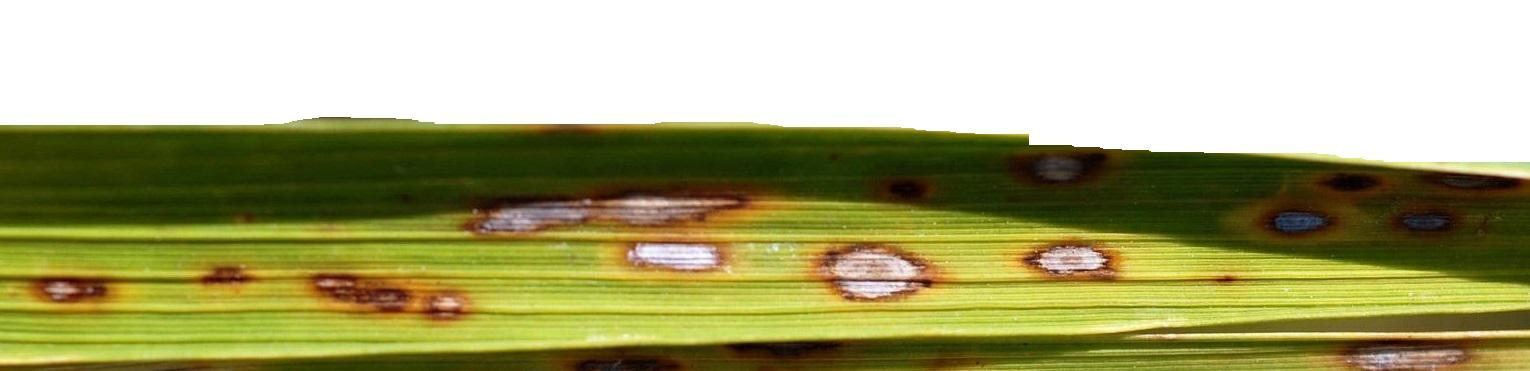0 BrownSpot: (453, 186, 753, 272), (300, 255, 489, 329), (821, 234, 961, 316), (1330, 315, 1473, 371), (1013, 224, 1140, 286), (1230, 180, 1348, 238), (25, 264, 123, 316), (190, 256, 259, 299)
